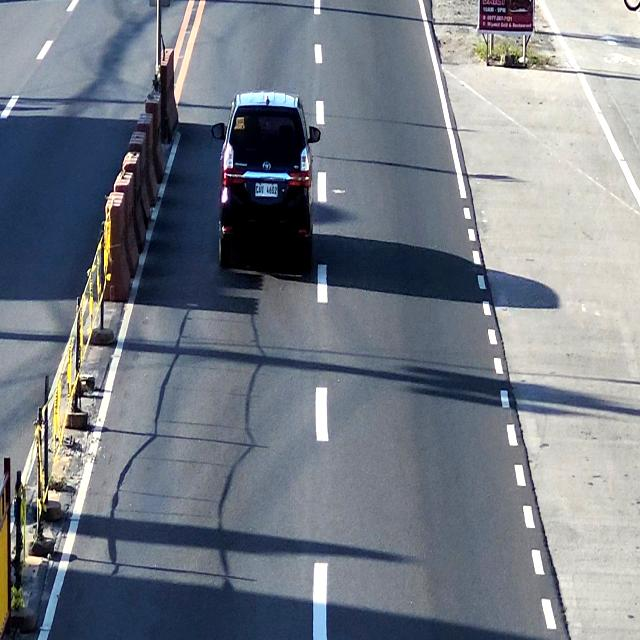Car: (217, 89, 316, 273)
License-Plate: (254, 181, 278, 201)
